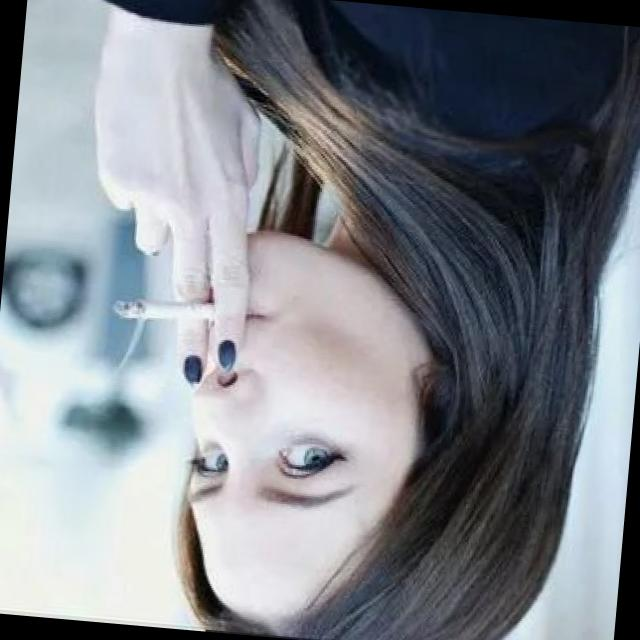cigarette: (104, 282, 228, 332)
